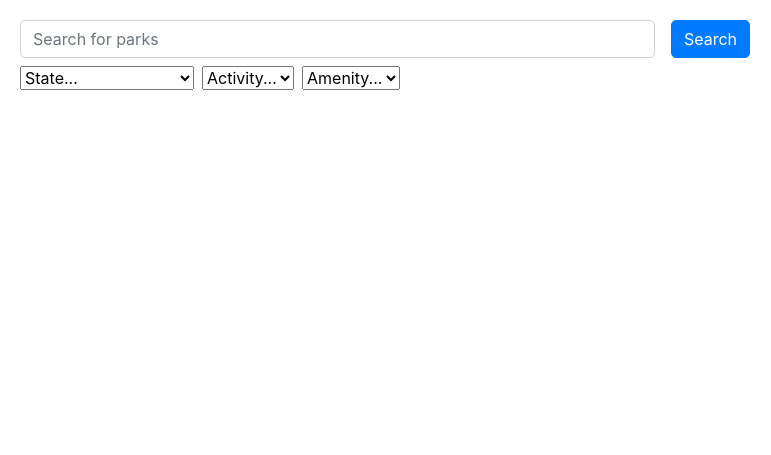
Test case: Favorite button tests › successfully removes park from favorites after saying yes to confirmation
Type "Test Park" into the field with placeholder "Search for parks" at (337, 39), box x1=20 y1=20 x2=655 y2=58
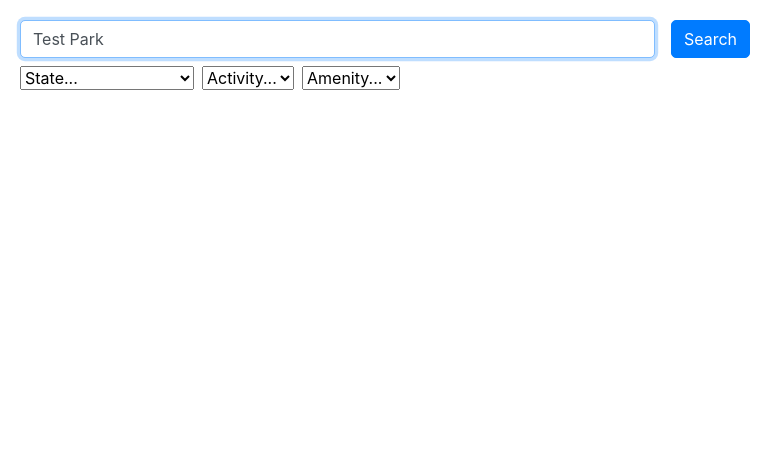
Click the button "Search" at (710, 39), box x1=671 y1=20 x2=750 y2=58
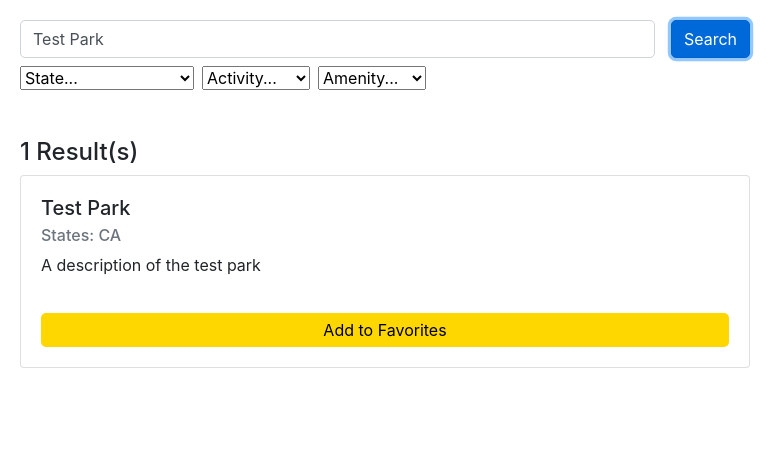
Now the heading "Test Park" is shown, box x1=41 y1=196 x2=130 y2=220
Click the button "Add to Favorites" at (385, 330), box x1=41 y1=313 x2=729 y2=347
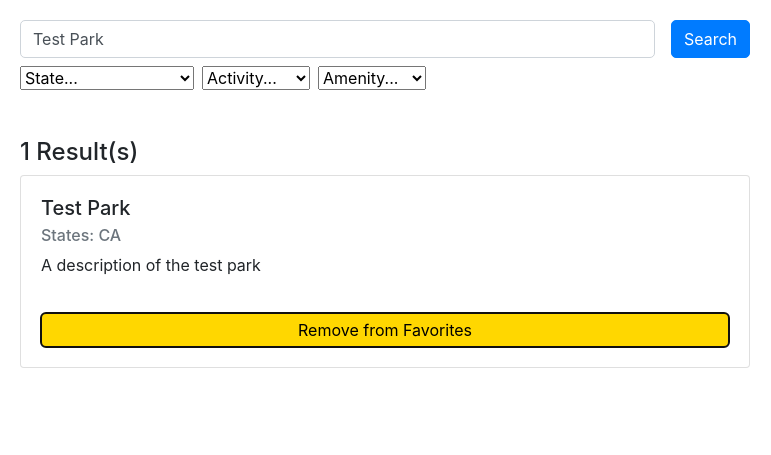
Now the button named "Add to Favorites" reads "Remove from Favorites"
Click the button named "Add to Favorites" at (385, 330), box x1=41 y1=313 x2=729 y2=347
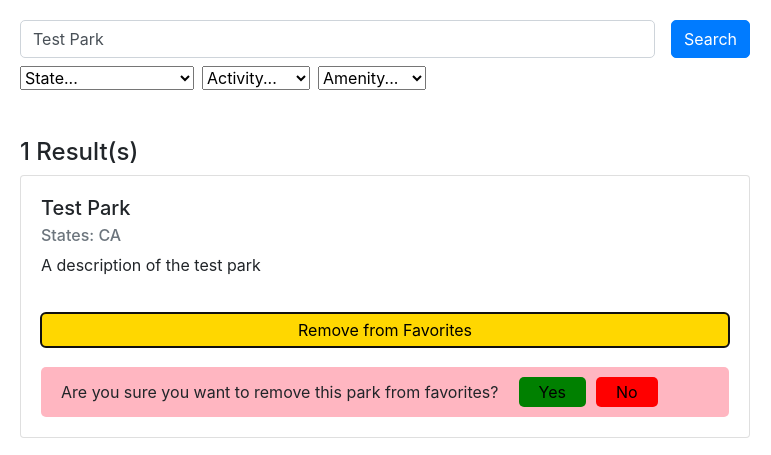
Click the button "Yes" at (552, 392), box x1=518 y1=377 x2=586 y2=407
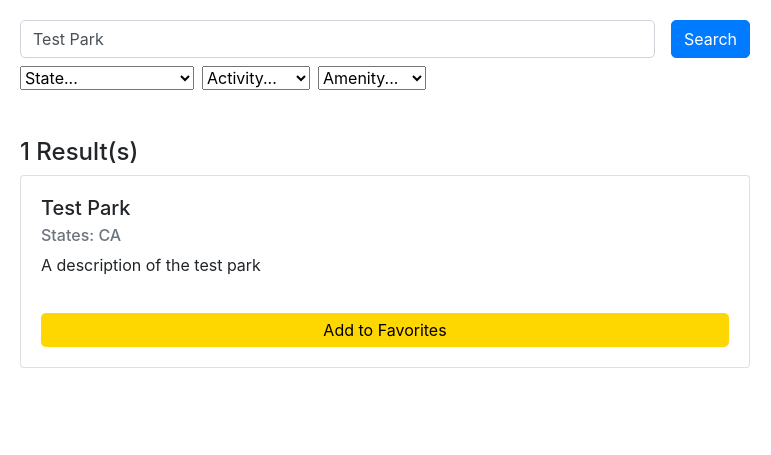
Now the button "Add to Favorites" is shown, box x1=41 y1=313 x2=729 y2=347
